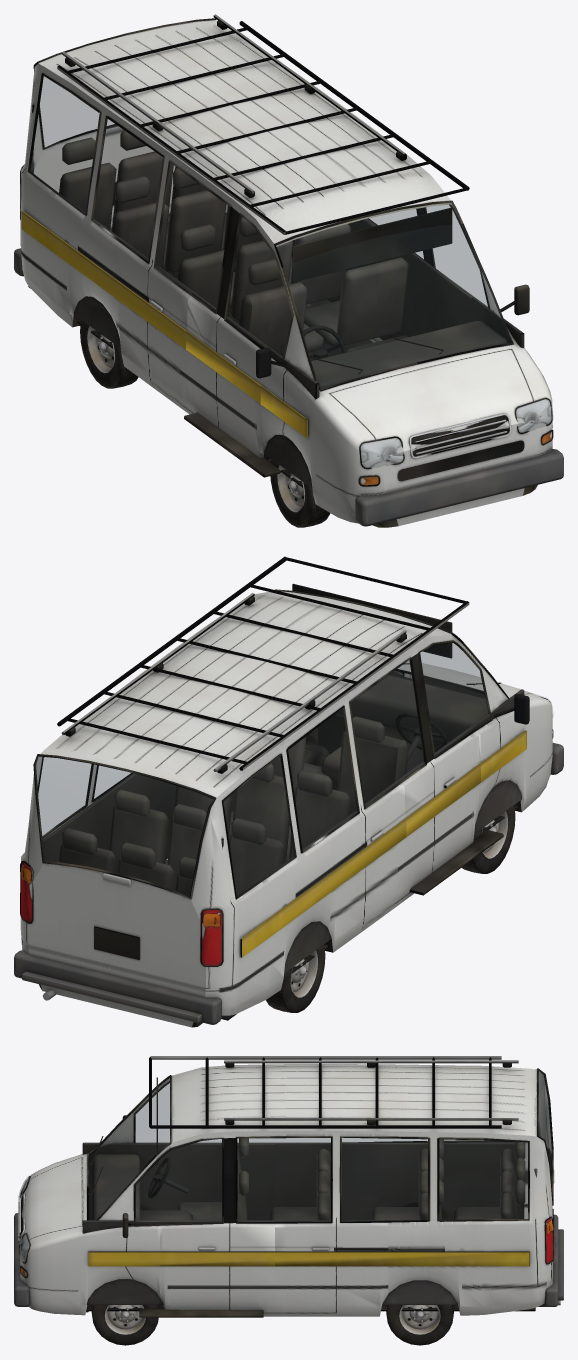
File: leguna.glb
The picture shows the model from 3 angles, top to bottom: view 1: azimuth 30°, elevation 25°; view 2: azimuth 150°, elevation 25°; view 3: azimuth 270°, elevation 25°; orthographic projection. The views are drawn at different scales.
Parts seen in each view (by area): view 1: body, glass, door_D, door_D_glass, door_PL, wheel_RR, wheel_FR, door_PL_glass; view 2: body, glass, door_D, door_D_glass, wheel_RR, wheel_FR; view 3: body, glass, door_PL, door_PL_glass, door_D, wheel_RL, wheel_FL, door_D_glass.
Boxes of the visible parts, x1,y1,x2,y2 form: body: [14, 14, 563, 527]; glass: [30, 76, 553, 468]; door_D: [186, 227, 280, 454]; door_D_glass: [192, 210, 278, 346]; door_PL: [397, 207, 473, 337]; wheel_RR: [80, 320, 138, 388]; wheel_FR: [270, 459, 330, 527]; door_PL_glass: [397, 206, 473, 295]; body: [14, 556, 563, 1027]; glass: [36, 643, 553, 896]; door_D: [395, 641, 480, 887]; door_D_glass: [389, 646, 473, 780]; wheel_RR: [266, 944, 325, 1012]; wheel_FR: [461, 805, 515, 873]; body: [14, 1056, 563, 1317]; glass: [18, 1071, 551, 1262]; door_PL: [159, 1153, 274, 1305]; door_PL_glass: [160, 1154, 274, 1222]; door_D: [159, 1085, 274, 1220]; wheel_RL: [386, 1305, 453, 1345]; wheel_FL: [91, 1305, 158, 1345]; door_D_glass: [160, 1085, 274, 1141].
Size of the model in its own units: 2.15 by 2.13 by 4.86.
Materials: 2 (1 with a texture image).
